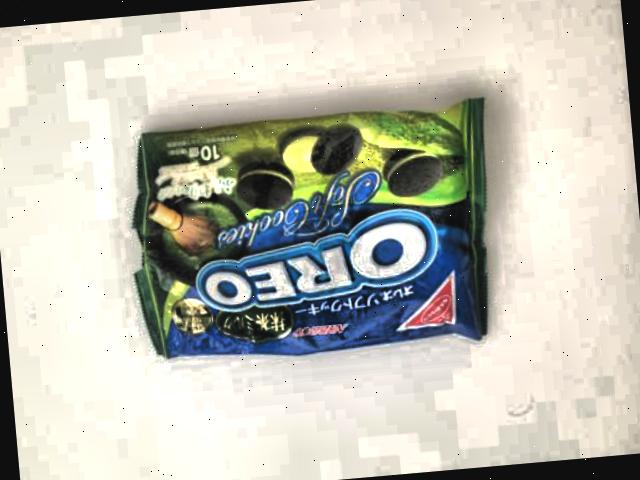Plastic: (79, 66, 520, 398)
